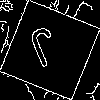J: (25, 25, 67, 78)
